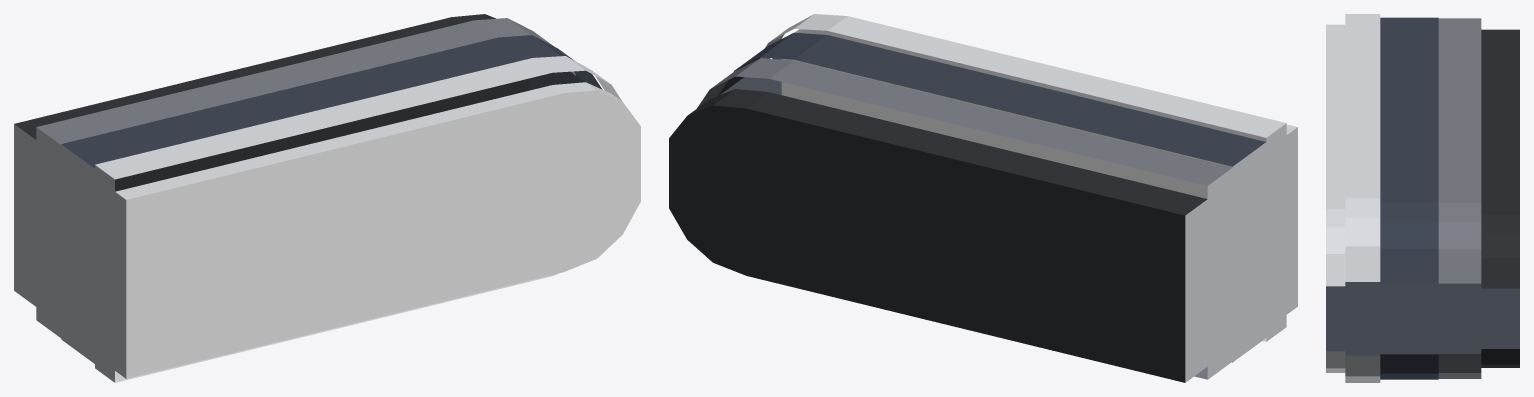
File: bus.gltf
The picture shows the model from 3 angles, left to right: view 1: azimuth 30°, elevation 25°; view 2: azimuth 150°, elevation 25°; view 3: azimuth 270°, elevation 25°; orthographic projection. The views are drawn at different scales.
Visible parts, largest first — view 1: bus; view 2: bus; view 3: bus.
Boxes of the visible parts, box(x1,y1,x2,y2) form: bus: box(14, 14, 640, 382); bus: box(669, 14, 1297, 382); bus: box(1326, 14, 1519, 382).
Bounding box in the file's own units: 9 × 3.4 × 3.4.
Materials: 1 (1 with a texture image).
